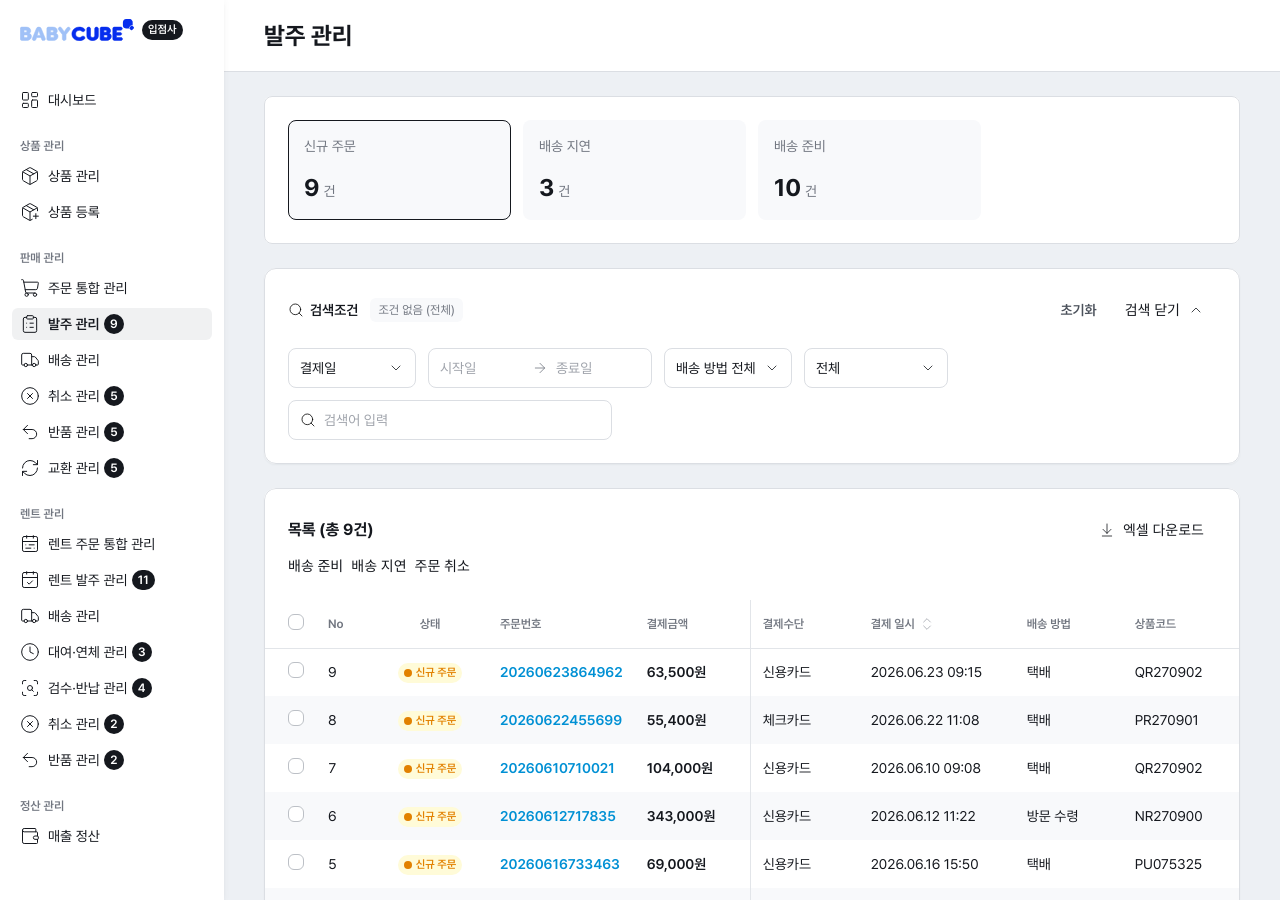
Test case: SaleProcPage — 발주 관리 › [주문 취소]는 2건 이상 고르면 잠긴다 — 1건이면 사유 창이 열린다
Click the checkbox named "20260623864962 베이비큐브 프리미엄 모유저장팩 세트 선택": (296, 670) [288,662,304,678]
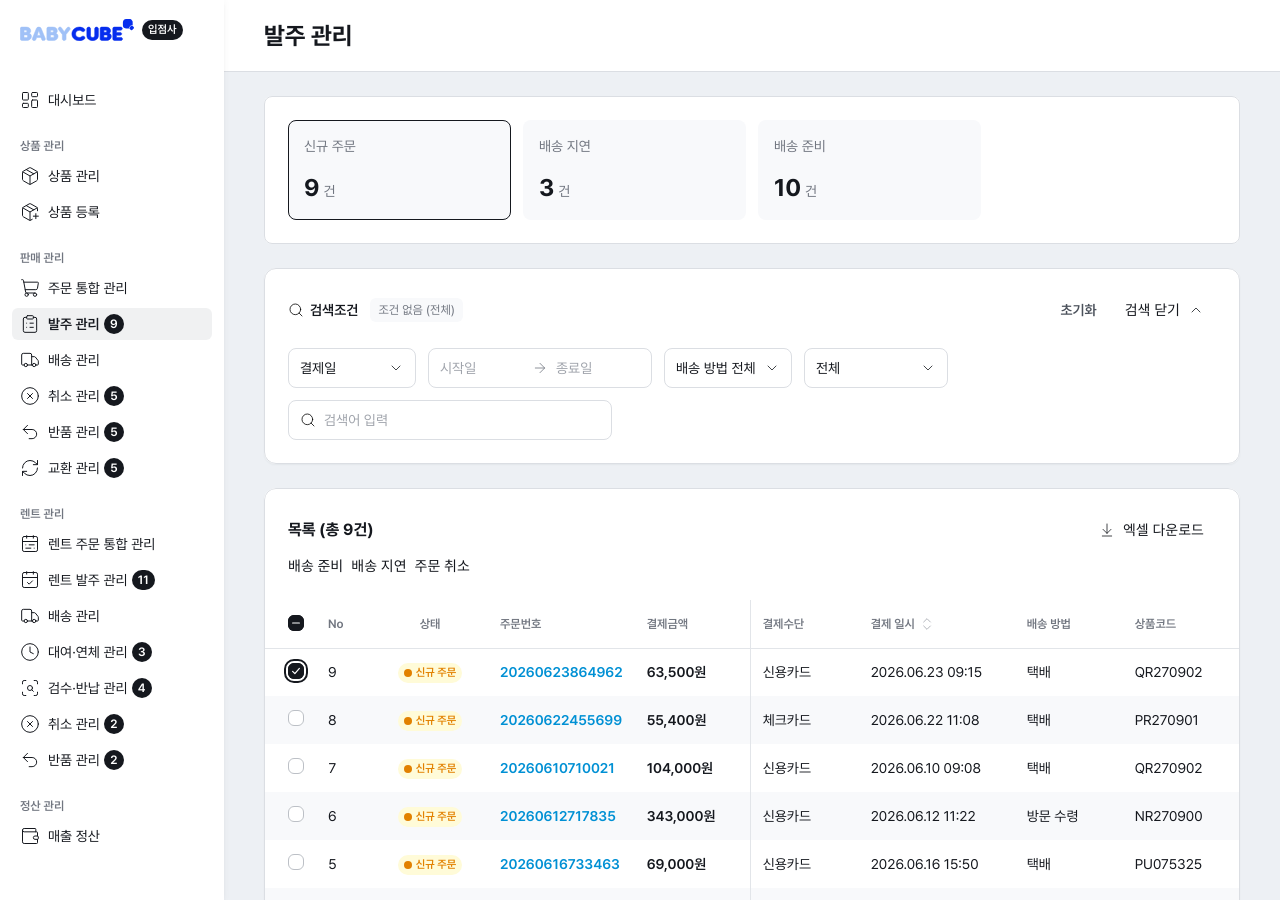
Click the checkbox named "20260622455699 본사 기획 사계절 아기 침낭 세트 선택": (296, 718) [288,710,304,726]
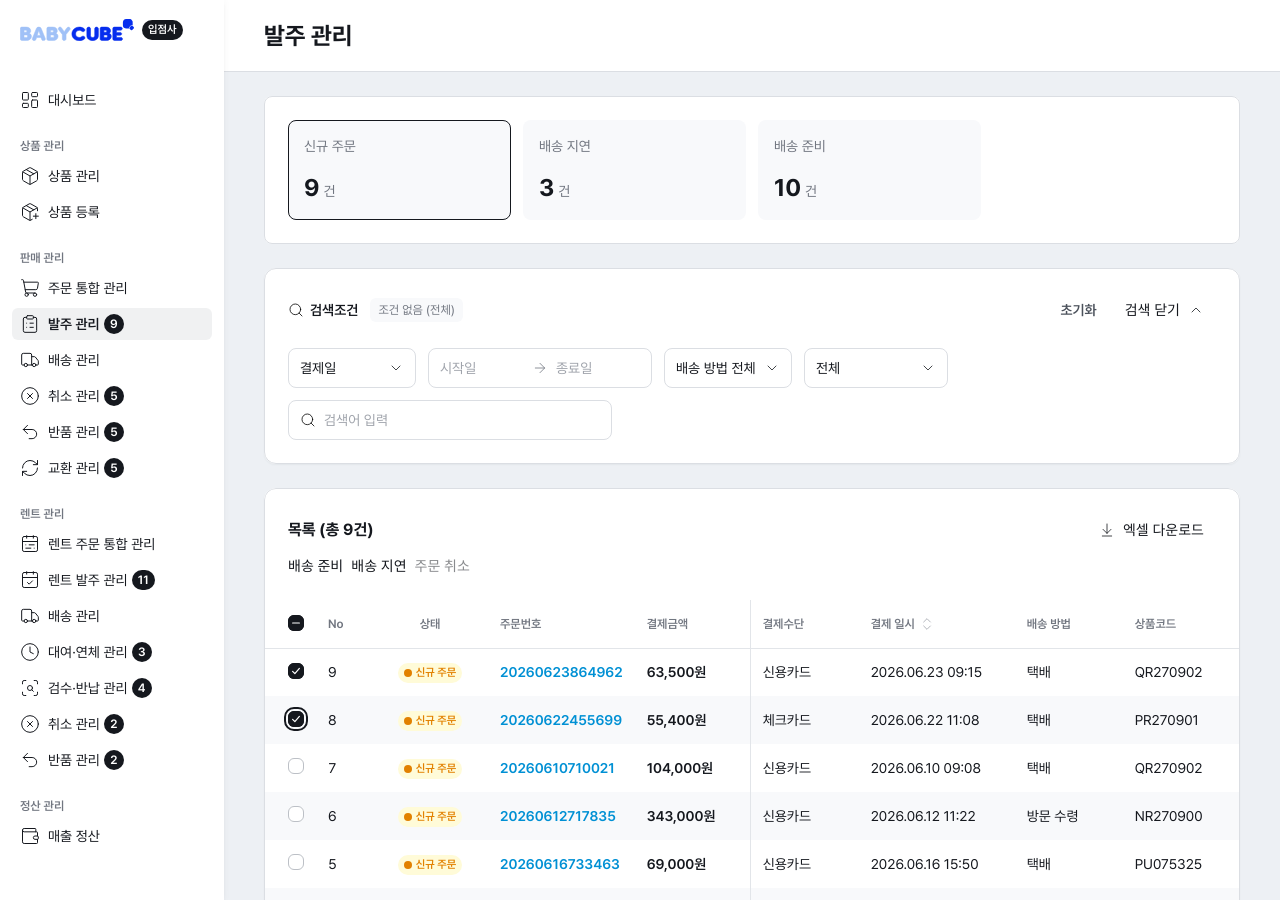
Expected: the button "주문 취소" is disabled, [414,556,470,576]
Click the checkbox named "20260622455699 본사 기획 사계절 아기 침낭 세트 선택": (296, 719) [288,711,304,727]
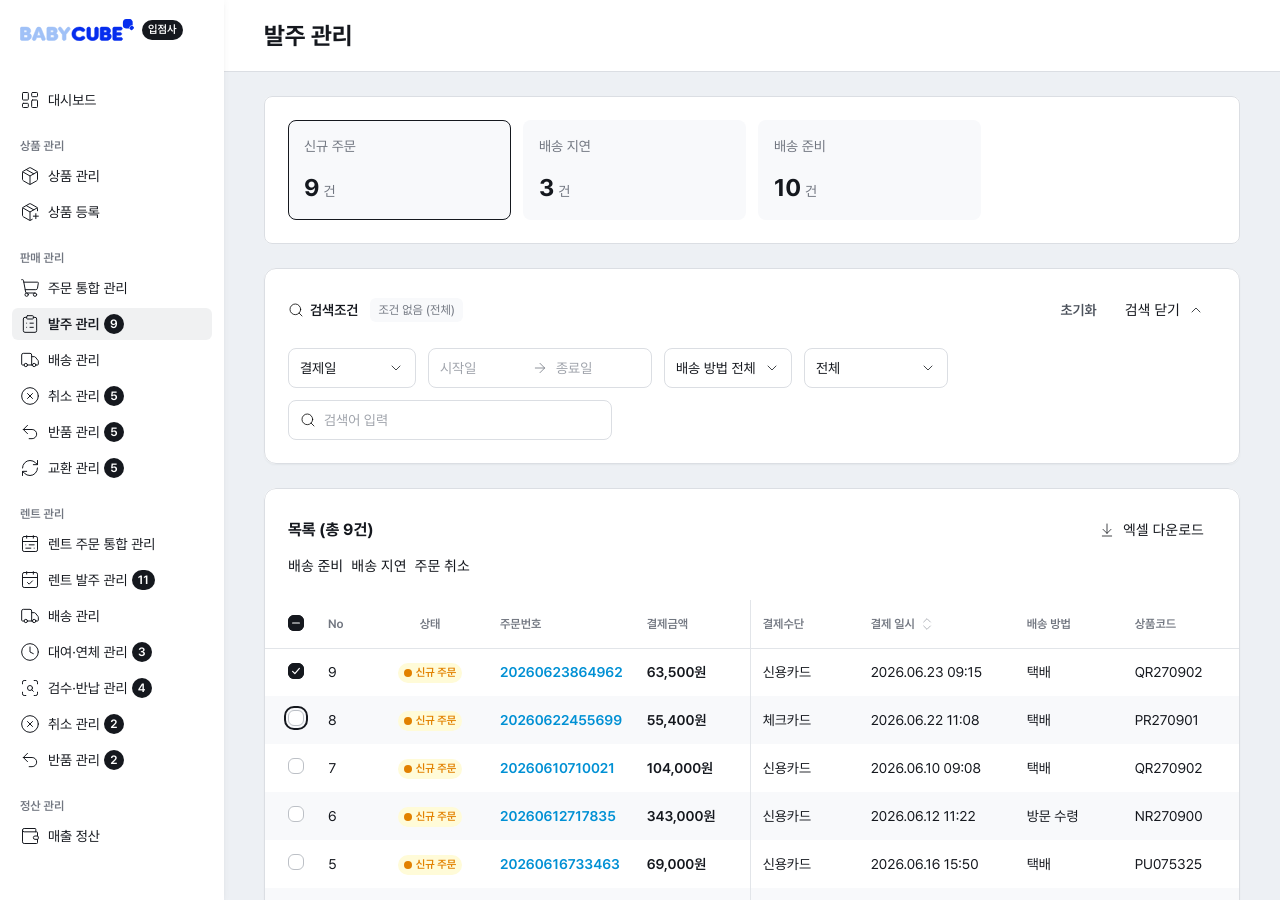
Click the button "주문 취소": (442, 566) [414,556,470,576]
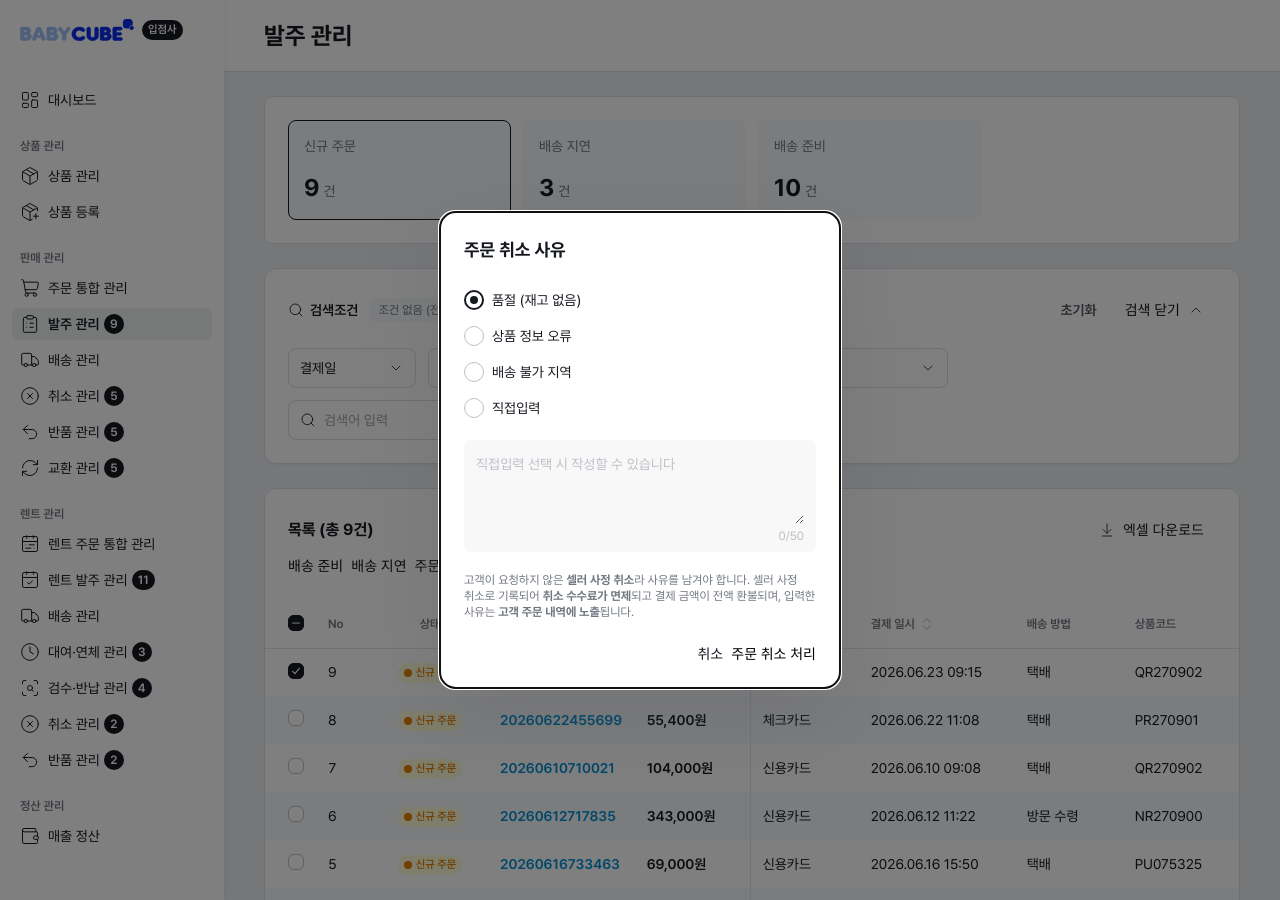
Expected: the text "고객 주문 내역에 노출" is shown, [498,605,600,619]
